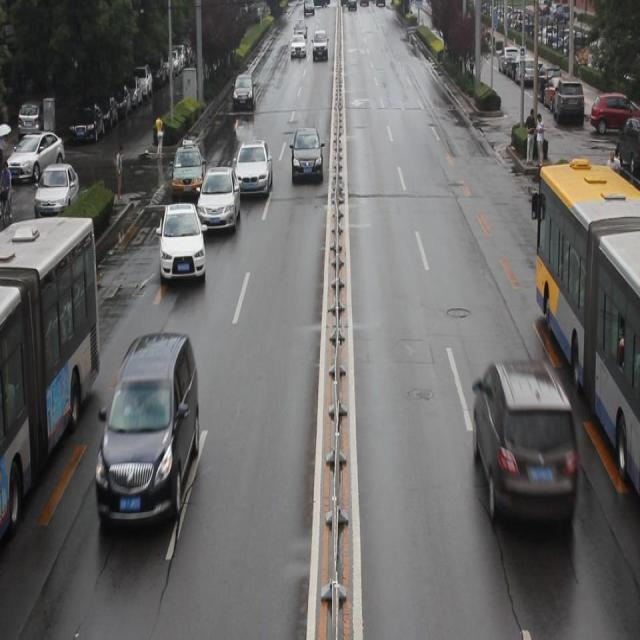car: (98, 334, 200, 534), (469, 357, 581, 534), (156, 204, 208, 288), (196, 165, 241, 237), (170, 139, 205, 202), (232, 141, 272, 196), (288, 130, 325, 182)
van: (530, 171, 640, 497), (1, 215, 98, 535)
